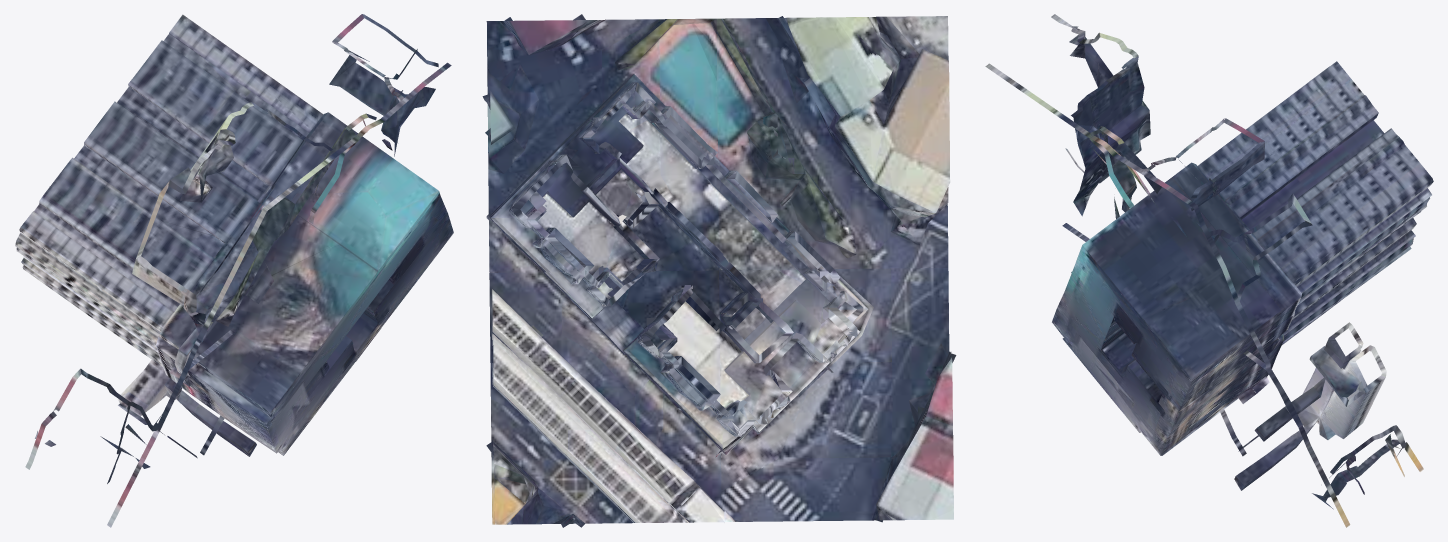
3 views of the same model, side by side, from view 1: azimuth 30°, elevation 25°; view 2: azimuth 150°, elevation 25°; view 3: azimuth 270°, elevation 25° (orthographic). The views are drawn at different scales.
Size of the model in its own units: 84.8 by 81.11 by 78.48.
Materials: 2 (2 with a texture image).
